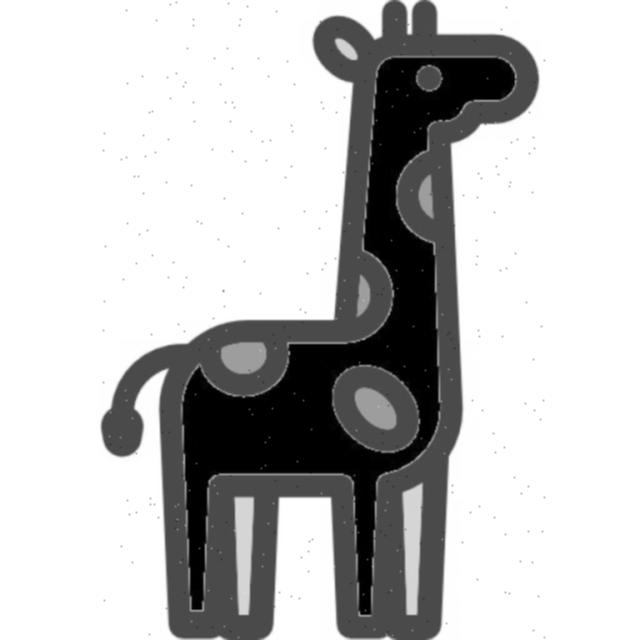girafe: (102, 2, 546, 640)
